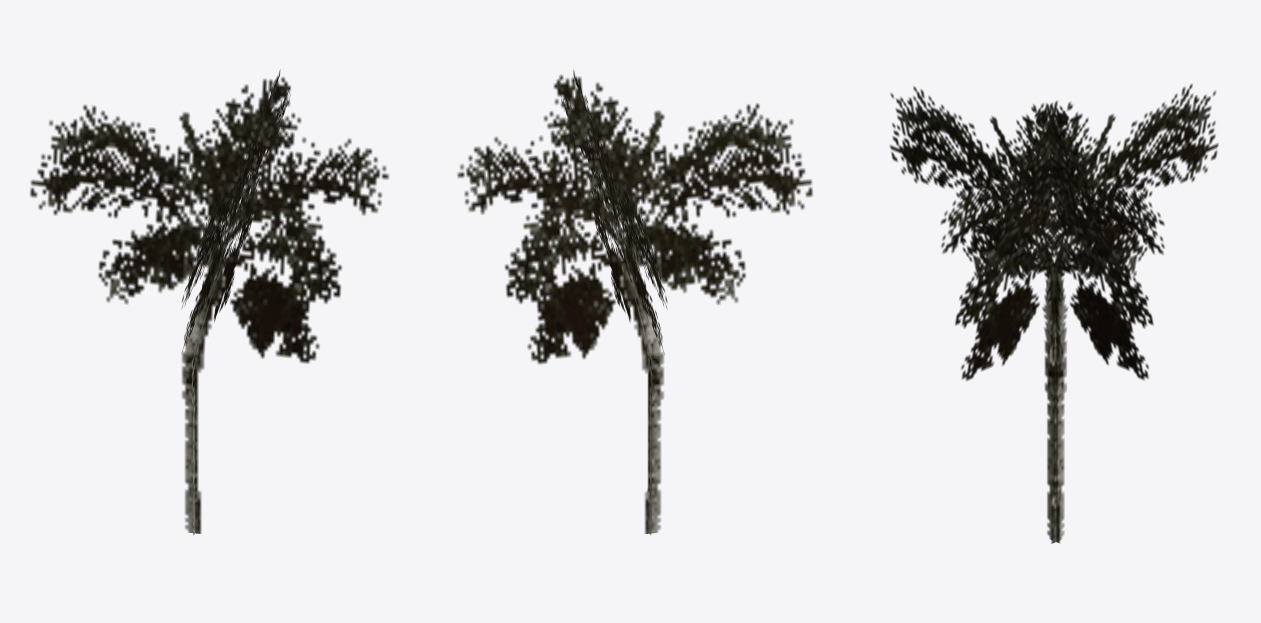
File: tree040.glb
3 views of the same model, side by side, from view 1: azimuth 30°, elevation 25°; view 2: azimuth 150°, elevation 25°; view 3: azimuth 270°, elevation 25° (orthographic). The views are drawn at different scales.
Parts seen in each view (by area): view 1: tree040; view 2: tree040; view 3: tree040.
Part boxes in pixels (<box>): tree040: <box>30,69,388,535</box>; tree040: <box>457,69,812,534</box>; tree040: <box>890,84,1218,543</box>.
Size of the model in its own units: 3.32 by 5.09 by 3.62.
Materials: 1 (1 with a texture image).
